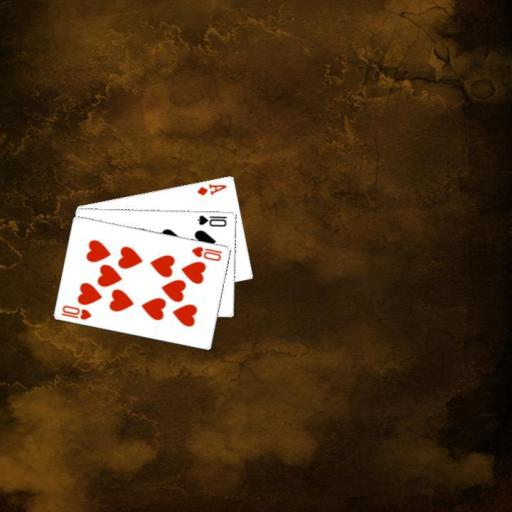10H: (189, 244, 224, 263), (58, 303, 93, 322)
10S: (194, 212, 228, 227)
AD: (194, 180, 228, 196)
